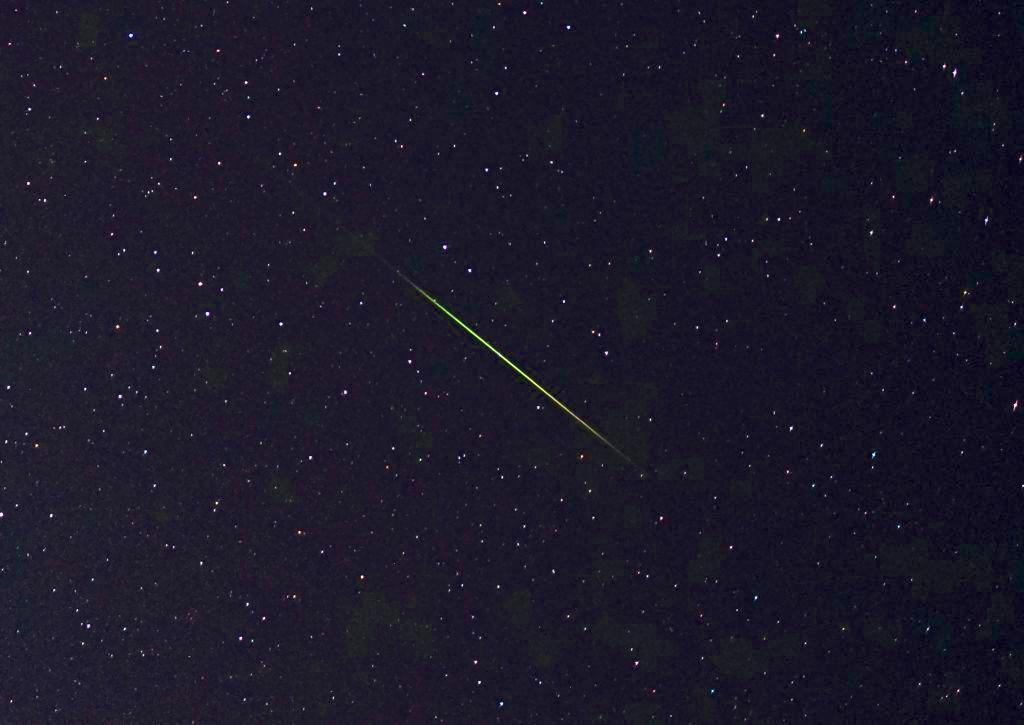meteorite: (323, 227, 628, 479)
